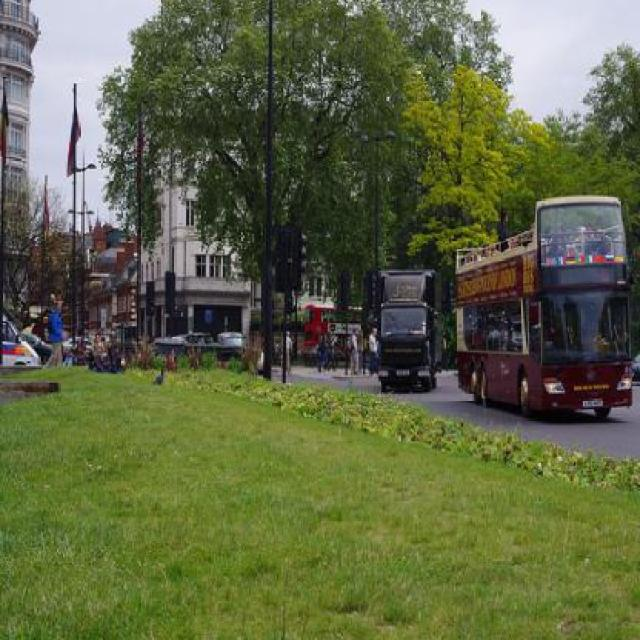Person: (38, 296, 62, 370), (346, 324, 359, 374), (86, 332, 105, 366), (105, 328, 120, 369), (322, 328, 336, 370), (544, 312, 561, 340), (367, 326, 376, 374), (316, 332, 327, 370), (355, 325, 363, 370), (284, 329, 291, 374), (257, 336, 263, 375), (581, 220, 594, 238), (510, 232, 519, 246), (481, 241, 488, 254)
